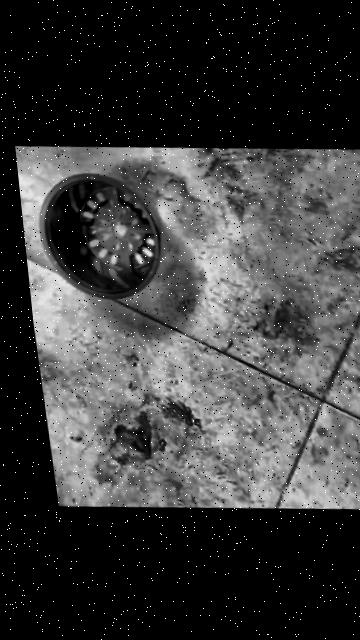pot: (33, 170, 168, 302)
